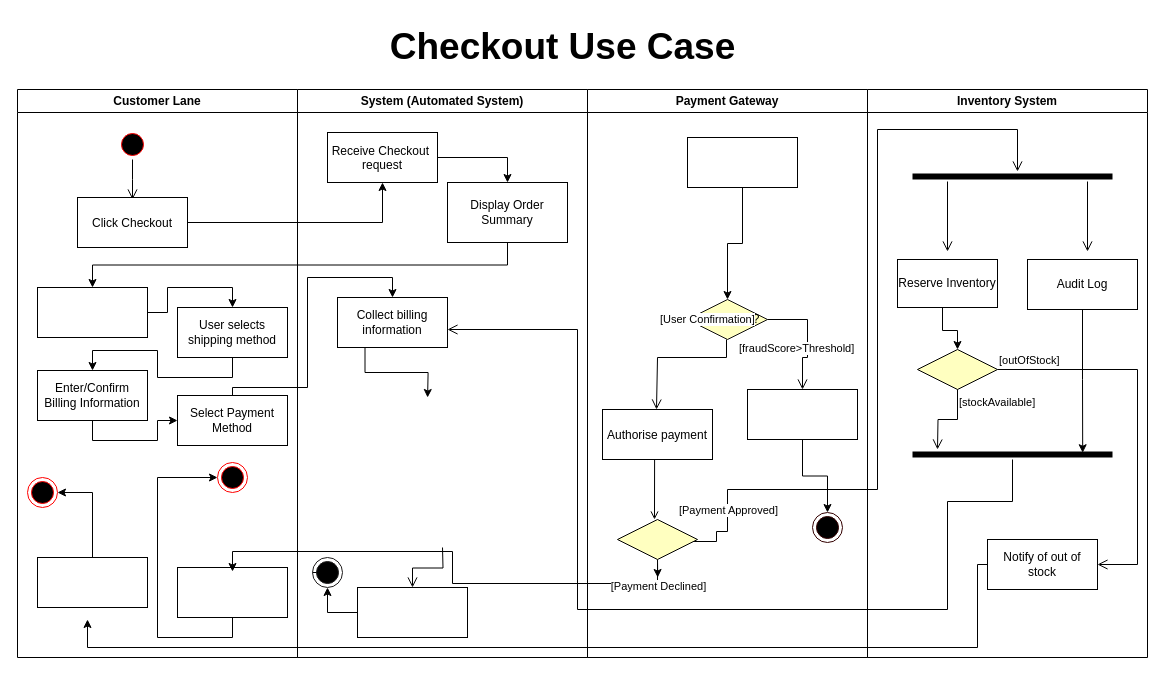
This 1165x675 diagram has some shape labels left out. The shapes that lost their labels are listed below. From the top down, each one's centre as x and y in pixels, then its label:
the point at 742,162: Receive Payment Request
the point at 92,312: User inputs shipping information
the point at 957,369: Availability?
the point at 802,414: Flag for human review
the point at 657,539: Approved?
the point at 92,582: Remove Item from cart
the point at 232,592: Notify Customer of payment failure
the point at 412,612: Send Offical Confirmation
